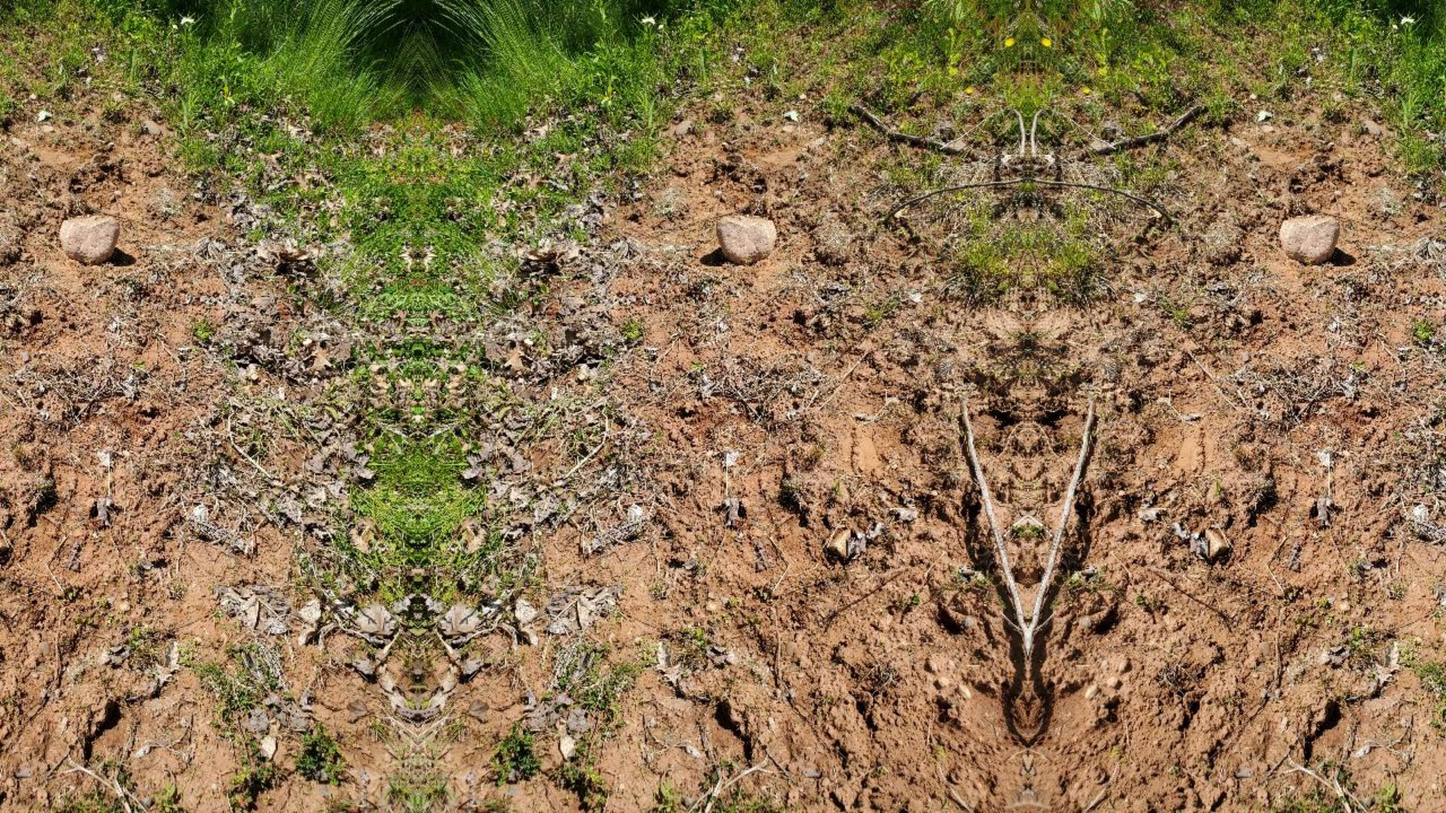rock: (59, 216, 119, 264), (1279, 216, 1339, 264), (716, 217, 776, 264)
